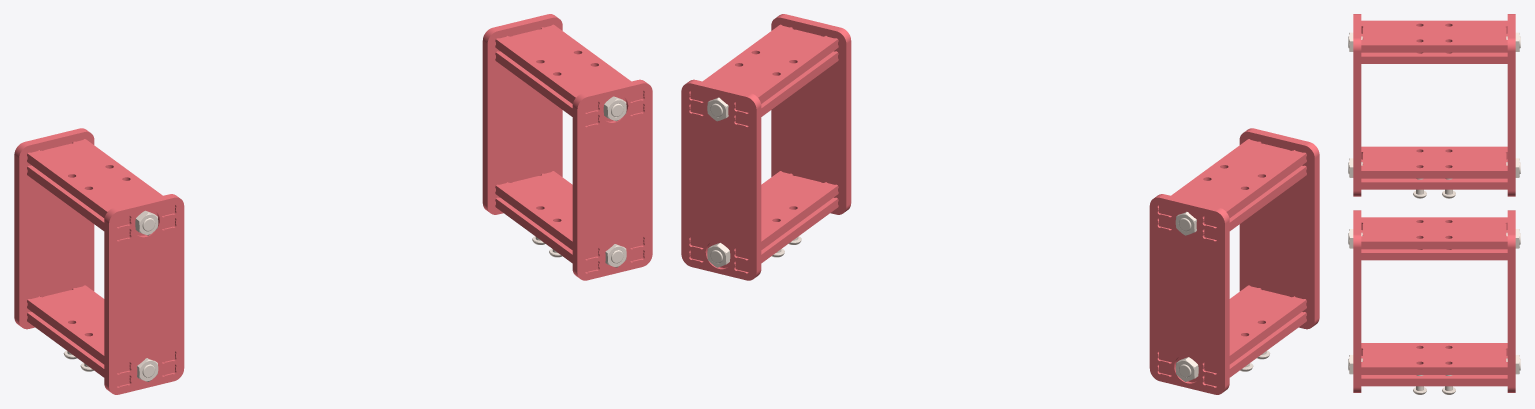
The model's file is BATTERY MODULE V2__SPINE.glb.
The picture shows the model from 3 angles, left to right: view 1: azimuth 30°, elevation 25°; view 2: azimuth 150°, elevation 25°; view 3: azimuth 270°, elevation 25°; orthographic projection. The views are drawn at different scales.
Visible parts, largest first — view 1: spine_side_simple (×4), spine_base (×8); view 2: spine_side_simple (×4), spine_base (×8); view 3: spine_base (×8), spine_side_simple (×4).
Boxes of the visible parts, box(x1,y1,x2,y2) form: spine_side_simple (×4): box(14, 14, 652, 394); spine_base (×8): box(27, 24, 643, 386); spine_side_simple (×4): box(681, 14, 1319, 394); spine_base (×8): box(690, 24, 1306, 386); spine_base (×8): box(1361, 20, 1507, 386); spine_side_simple (×4): box(1353, 14, 1515, 392).
Size of the model in its own units: 0.4134 by 0.1375 by 0.1321.
